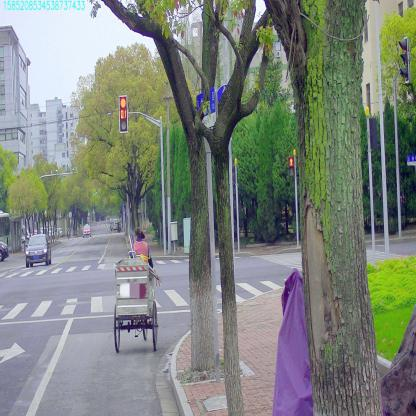traffic-light: (119, 96, 127, 132)
